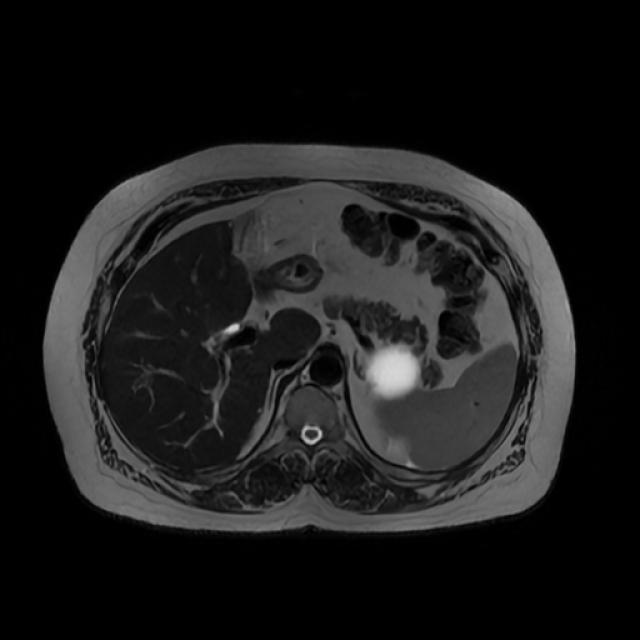sol: (365, 343, 421, 400)
